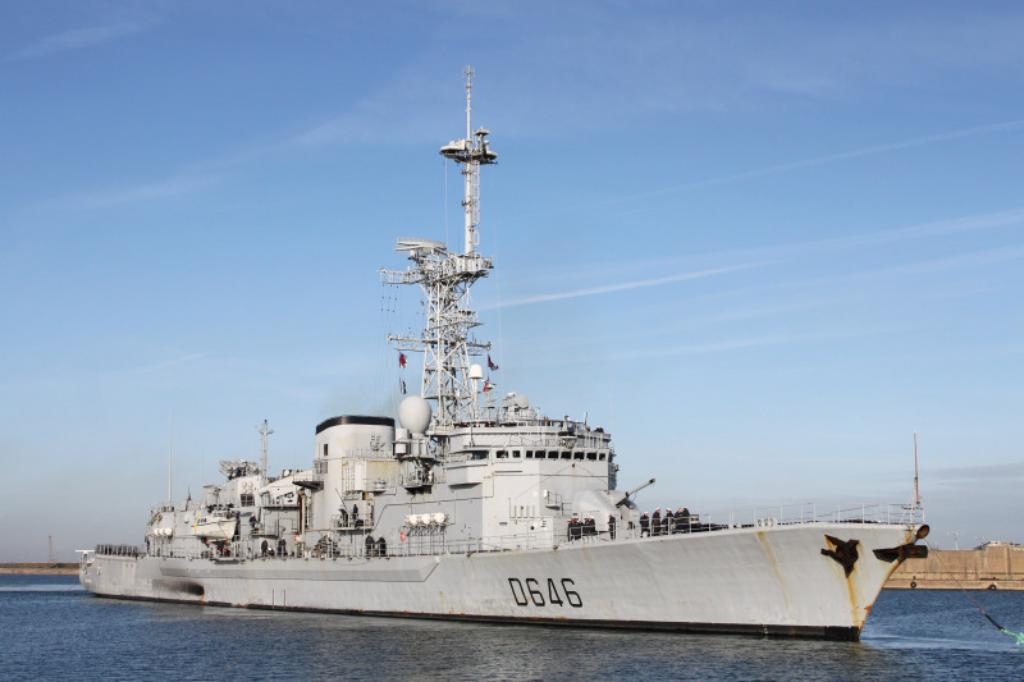Warship: (78, 57, 934, 643)
